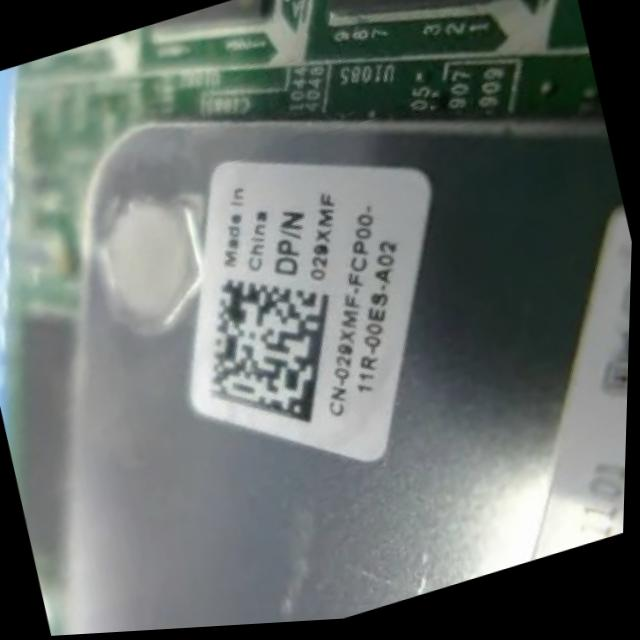datamatrix: (187, 254, 361, 454)
